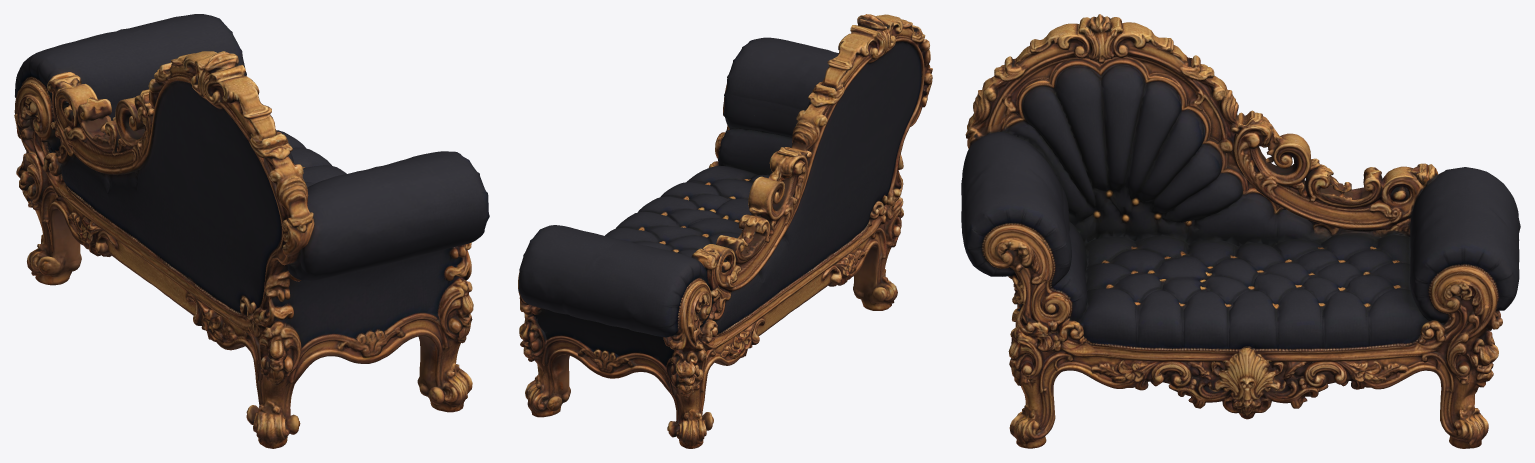
3 views of the same model, side by side, from view 1: azimuth 30°, elevation 25°; view 2: azimuth 150°, elevation 25°; view 3: azimuth 270°, elevation 25° (orthographic). The views are drawn at different scales.
Parts seen in each view (by area): view 1: tripo_node_f308ca58-31e6-4f82-b523-c3e20de76a6d_0; view 2: tripo_node_f308ca58-31e6-4f82-b523-c3e20de76a6d_0; view 3: tripo_node_f308ca58-31e6-4f82-b523-c3e20de76a6d_0.
Boxes of the visible parts, x1,y1,x2,y2 form: tripo_node_f308ca58-31e6-4f82-b523-c3e20de76a6d_0: [14, 14, 489, 448]; tripo_node_f308ca58-31e6-4f82-b523-c3e20de76a6d_0: [518, 14, 932, 448]; tripo_node_f308ca58-31e6-4f82-b523-c3e20de76a6d_0: [961, 14, 1520, 448].
Size of the model in its own units: 0.4776 by 0.6788 by 1.
Materials: 1 (1 with a texture image).
